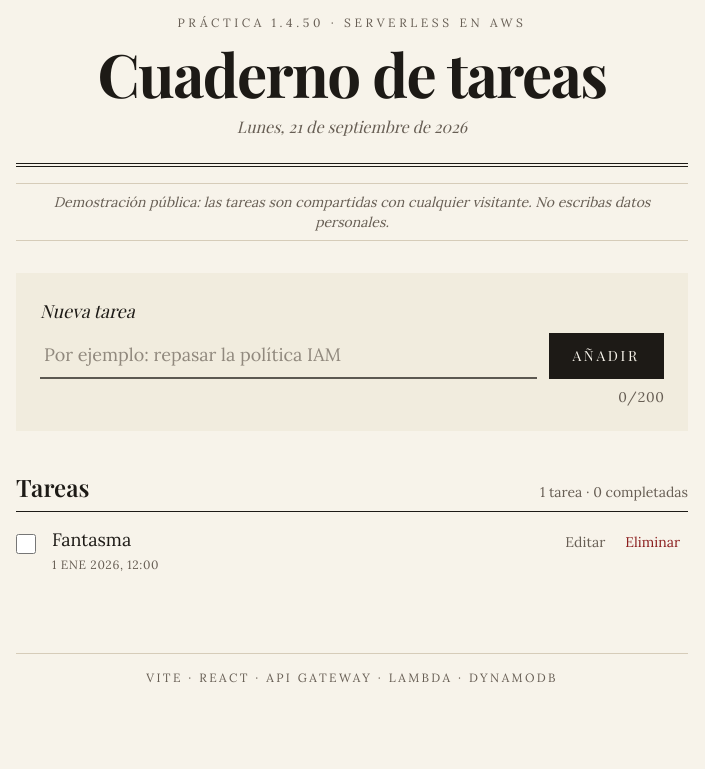
eliminación › retira de la lista una tarea que ya no existe en el servidor
Click the button with aria-label "Eliminar «Fantasma»" at [653, 542], box [617,528,688,556]
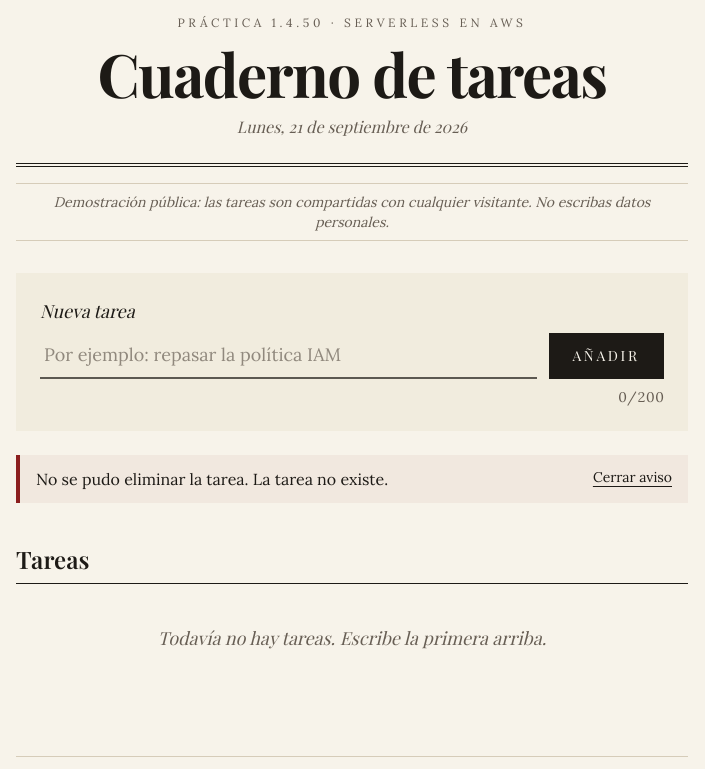
Result: the message shows "La tarea no existe" at [36,469,388,489]
Result: the label "Fantasma" is gone
